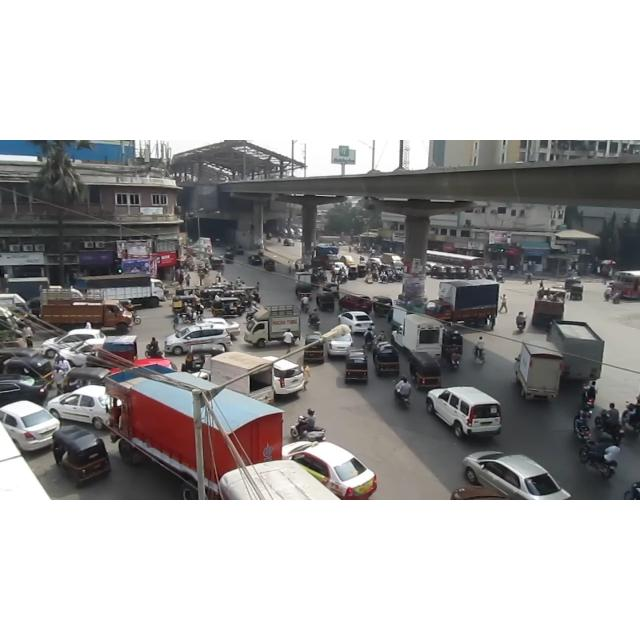auto: (56, 431, 114, 481), (410, 353, 444, 395), (183, 346, 229, 372), (441, 329, 469, 359), (344, 355, 370, 387), (376, 344, 400, 376), (306, 336, 325, 364), (294, 281, 312, 301), (315, 294, 337, 310), (571, 284, 585, 303)
car: (282, 442, 378, 500), (464, 451, 572, 501), (426, 386, 502, 438), (0, 401, 60, 451), (47, 385, 109, 429), (166, 322, 234, 356), (42, 328, 106, 358), (263, 356, 305, 396), (0, 374, 48, 406), (58, 338, 106, 366), (450, 486, 508, 500), (338, 311, 374, 333), (338, 294, 374, 314), (327, 333, 353, 355), (332, 262, 348, 274), (366, 257, 382, 267), (282, 238, 294, 246)
truck: (105, 372, 283, 498), (40, 290, 134, 334), (547, 321, 605, 383), (427, 274, 501, 322), (208, 352, 274, 404), (75, 274, 165, 308), (512, 343, 562, 402), (243, 304, 301, 348), (391, 314, 443, 358), (531, 288, 565, 330), (6, 277, 50, 301), (311, 244, 339, 270), (0, 293, 30, 313), (381, 253, 403, 267)
